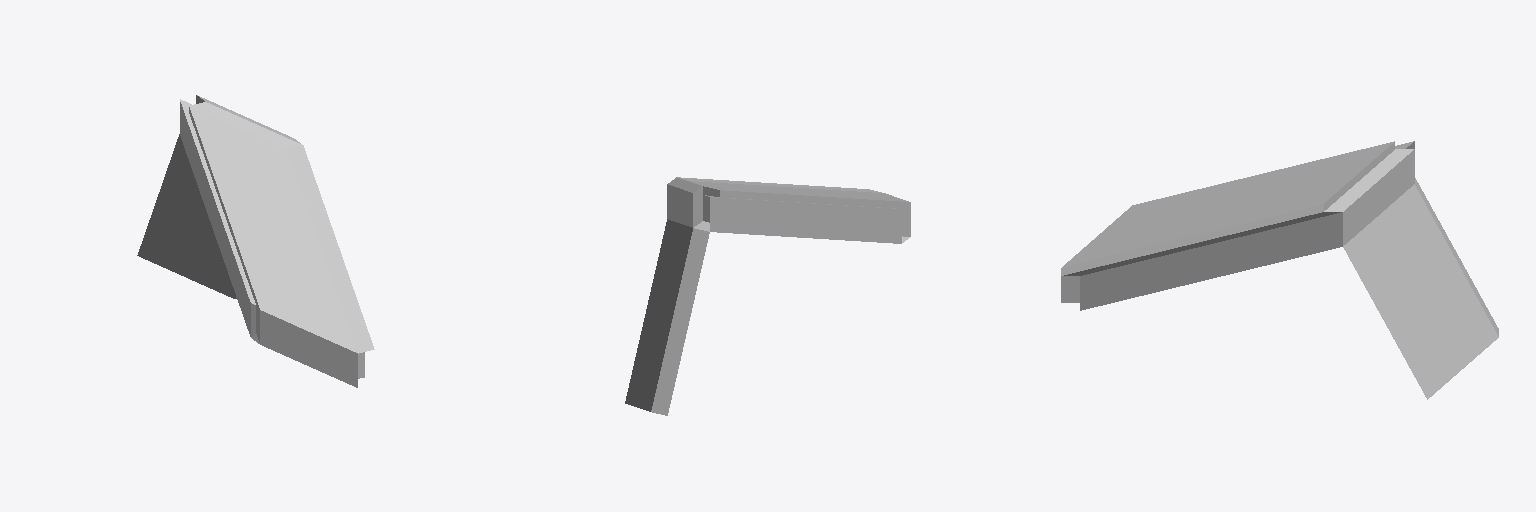
File: try.obj
3 renders of one model, left to right at view 1: azimuth 30°, elevation 25°; view 2: azimuth 150°, elevation 25°; view 3: azimuth 270°, elevation 25°, orthographic.
Visible parts, largest first — view 1: Cube; view 2: Cube; view 3: Cube.
Boxes of the visible parts, x1,y1,x2,y2 form: Cube: [137, 95, 374, 387]; Cube: [625, 177, 910, 415]; Cube: [1061, 141, 1498, 399].
Bounding box in the file's own units: 16.69 × 25.35 × 45.64.